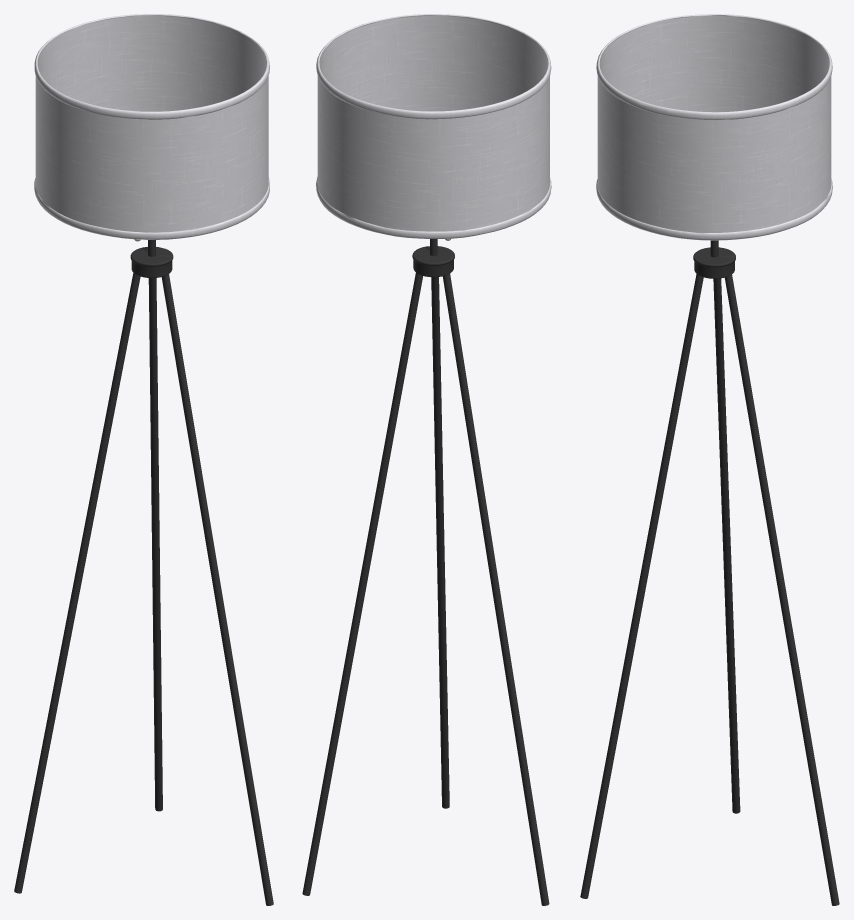
The picture shows the model from 3 angles, left to right: view 1: azimuth 30°, elevation 25°; view 2: azimuth 150°, elevation 25°; view 3: azimuth 270°, elevation 25°; orthographic projection.
Visible parts, largest first — view 1: RootNode; view 2: RootNode; view 3: RootNode.
Boxes of the visible parts, x1,y1,x2,y2 form: RootNode: [14, 14, 273, 905]; RootNode: [302, 14, 551, 905]; RootNode: [580, 14, 839, 905].
Bounding box in the file's own units: 0.4581 × 1.54 × 0.4485.
1 material, 1 textured.
